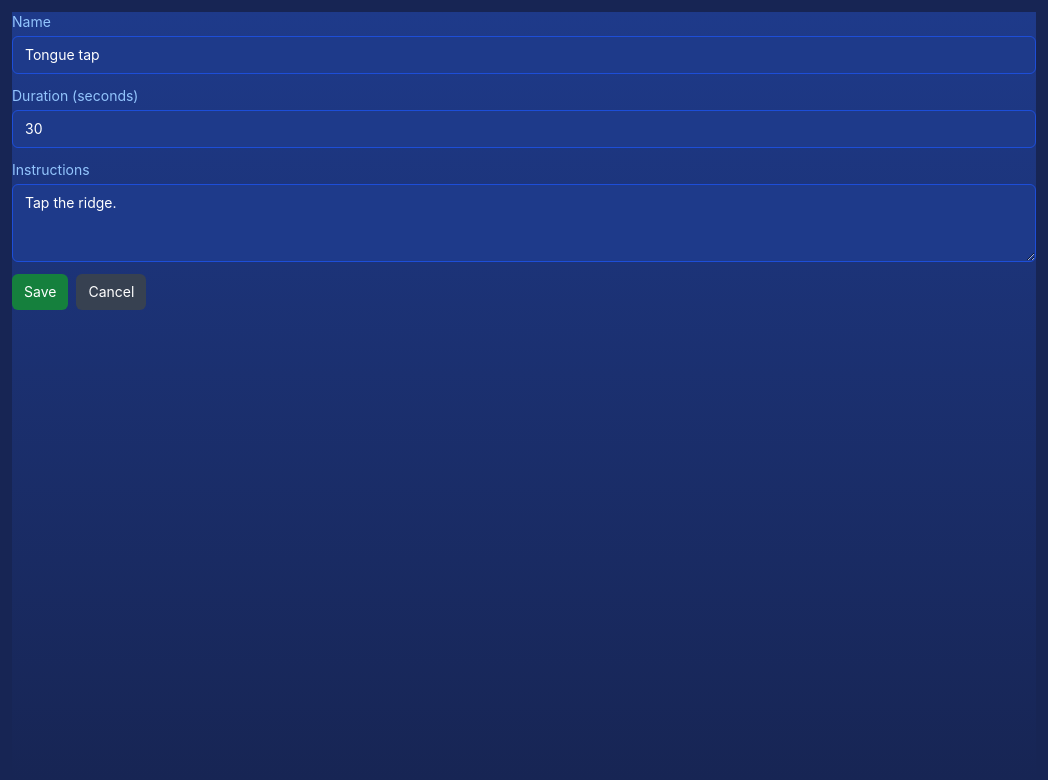
Test: EditExerciseForm › rejects a duration under 5 seconds and shows feedback
Replace the text in the number field labelled "Duration (seconds)" with "3" at x=524, y=129, box x1=12 y1=110 x2=1036 y2=148
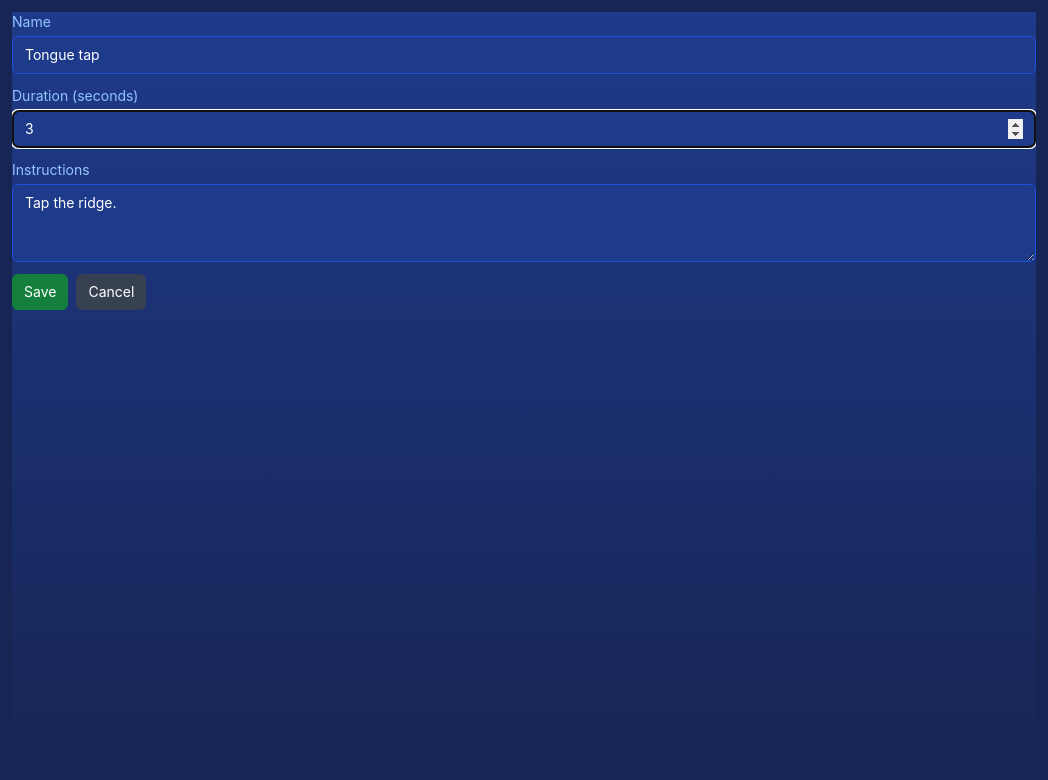
Click the button "Save".
click(40, 292)  # box x1=12 y1=274 x2=68 y2=310
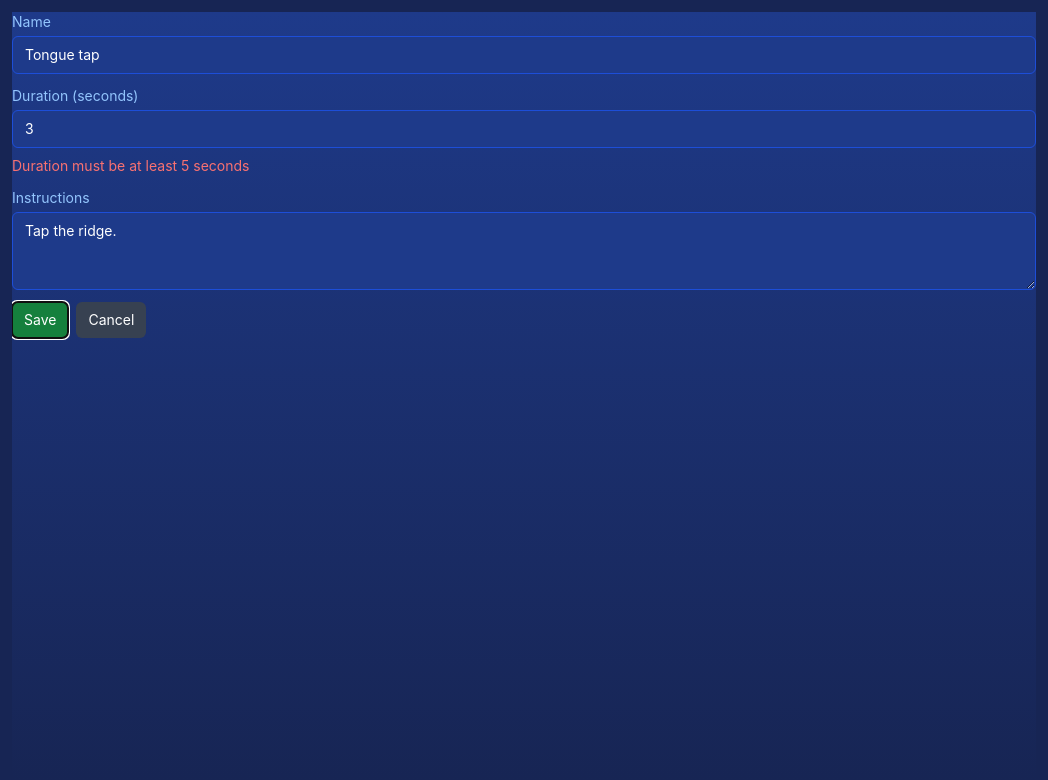
Expected: the message shows "at least 5 seconds", x1=12 y1=157 x2=250 y2=174
